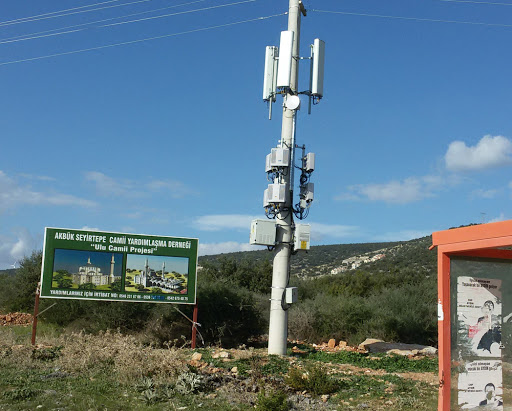a: (277, 31, 289, 86), (263, 45, 275, 100), (314, 39, 325, 97)
